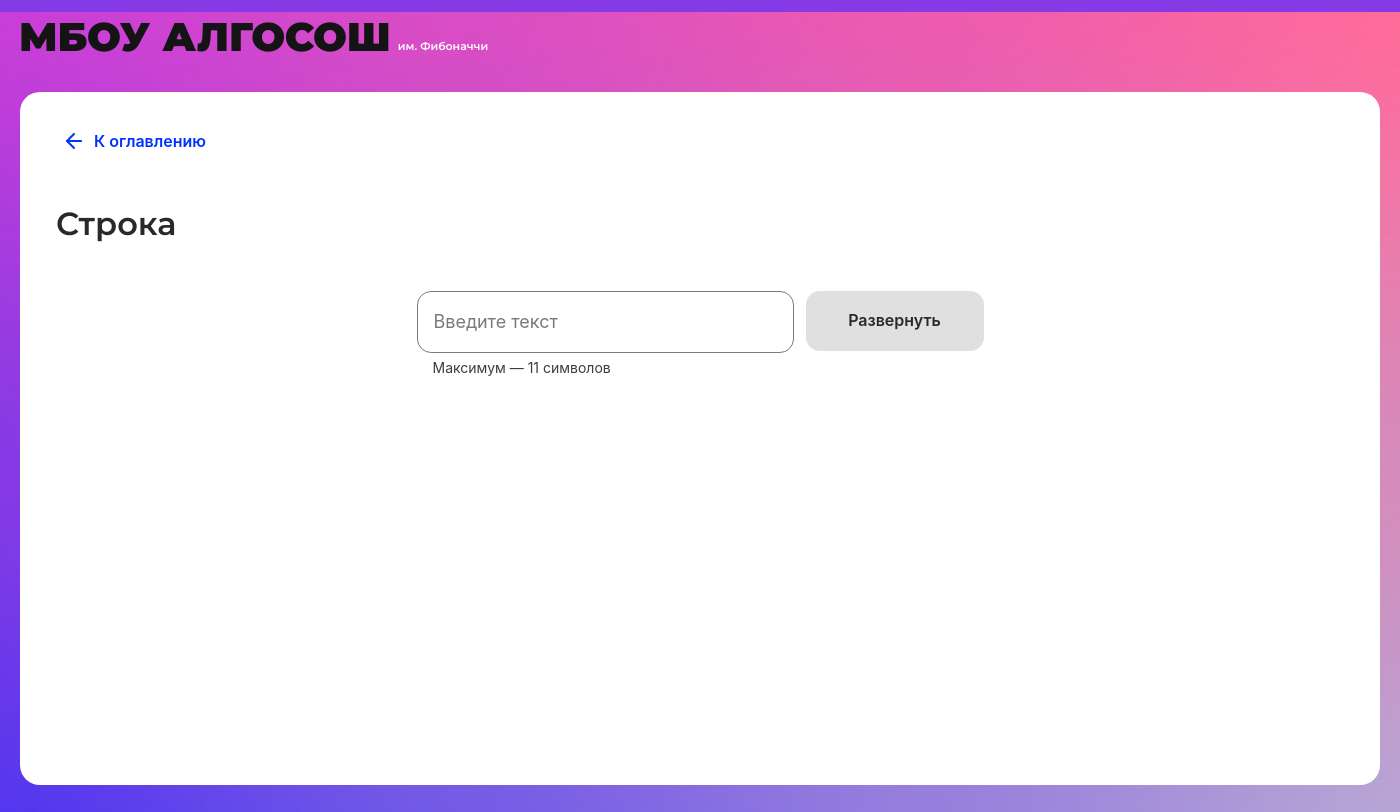
it: string page › button should be switch disabled state correctly depends on input value
Expected: the button with id "reverse-btn" is disabled, x1=806 y1=291 x2=984 y2=351
Type "test" into the field with placeholder "Введите текст" at (606, 322), box x1=417 y1=291 x2=794 y2=353
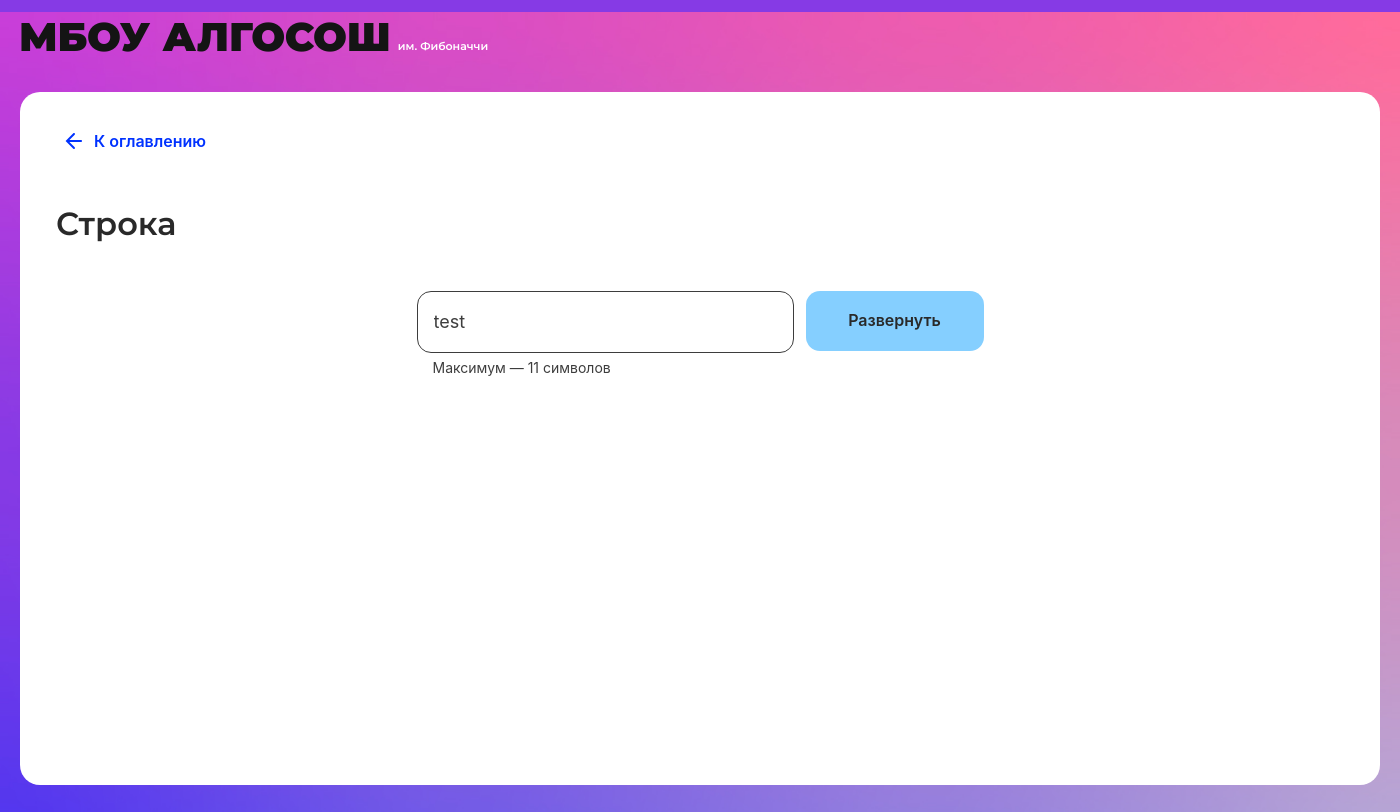
Result: the button with id "reverse-btn" is enabled at x1=806 y1=291 x2=984 y2=351
